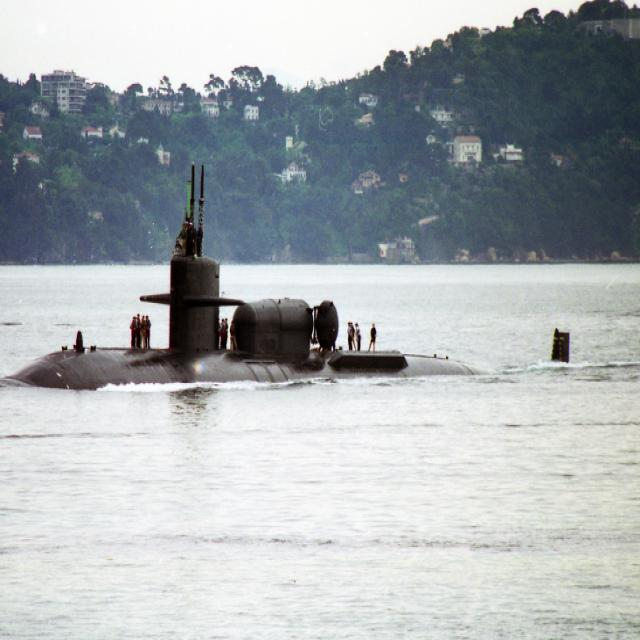submarine: (1, 149, 587, 388)
